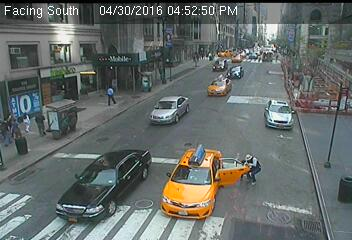neg: (298, 73, 315, 95), (141, 71, 156, 90), (163, 53, 176, 70), (114, 52, 125, 67)
pos: (102, 83, 117, 103), (18, 111, 33, 131), (8, 116, 21, 134)
